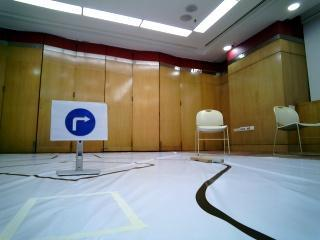right: (54, 99, 109, 141)
